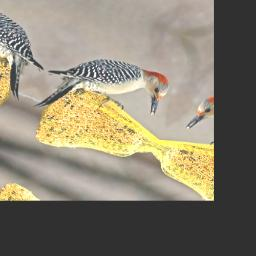Woodpecker: (27, 28, 186, 152)
